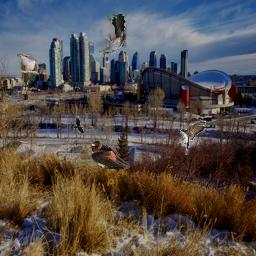Crow: (74, 116, 84, 133)
Cuckoo: (99, 14, 127, 54), (17, 54, 37, 94)
Swallow: (90, 140, 130, 169), (180, 120, 206, 155)
